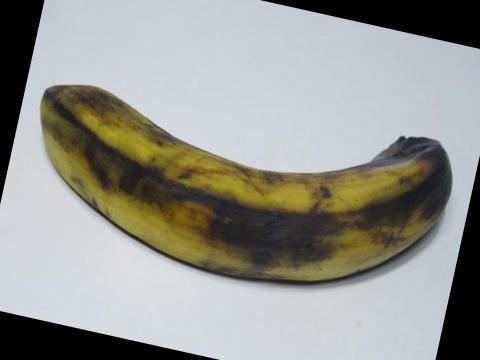overripe: (24, 69, 468, 309)
